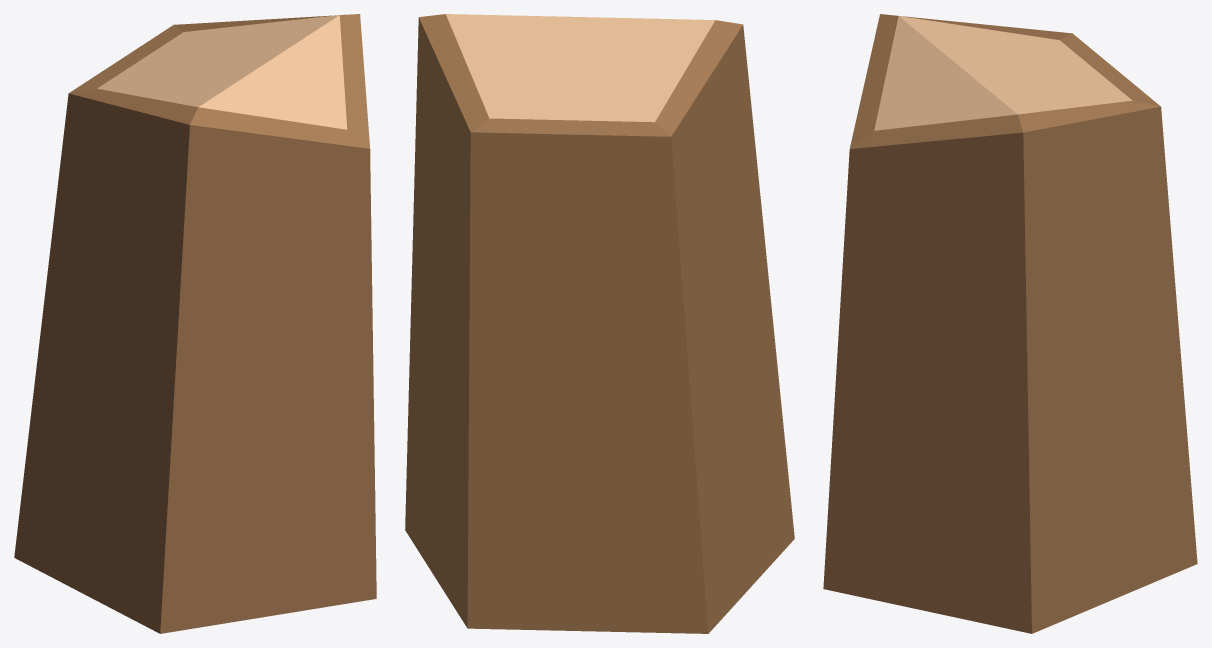
The model's file is Fir_Stump_01.fbx.
The picture shows the model from 3 angles, left to right: view 1: azimuth 30°, elevation 25°; view 2: azimuth 150°, elevation 25°; view 3: azimuth 270°, elevation 25°; orthographic projection. The views are drawn at different scales.
Visible parts, largest first — view 1: Fir_Stump_01; view 2: Fir_Stump_01; view 3: Fir_Stump_01.
Part boxes in pixels (bbox=[...]): Fir_Stump_01: bbox=[14, 14, 376, 633]; Fir_Stump_01: bbox=[405, 14, 794, 633]; Fir_Stump_01: bbox=[823, 14, 1197, 633].
Size of the model in its own units: 45.72 by 67.9 by 45.72.
